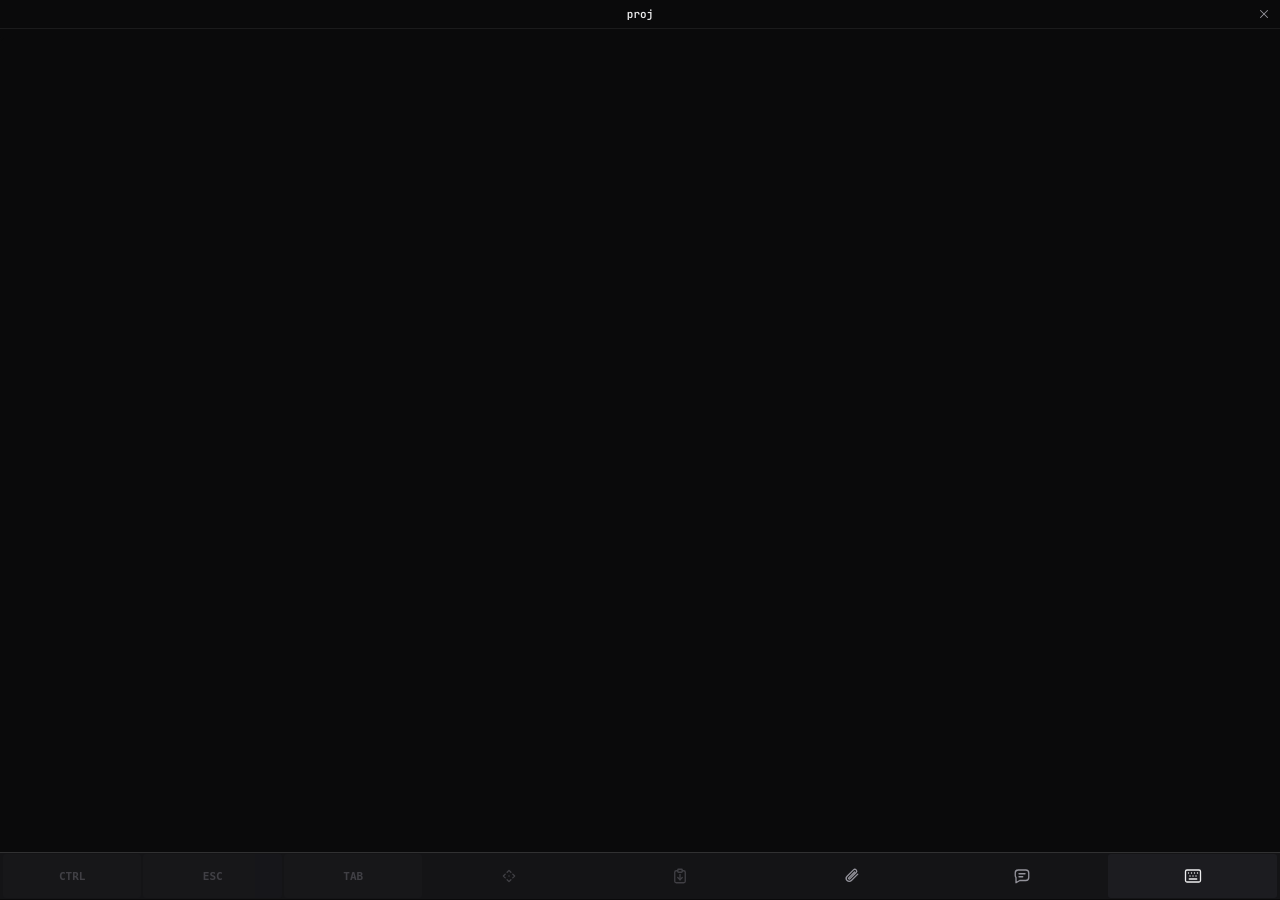
it: a transient file-history failure retries automatically without surfacing an error
Step 1. Click the button named "Files" → (851, 876), box [766,854,935,898]
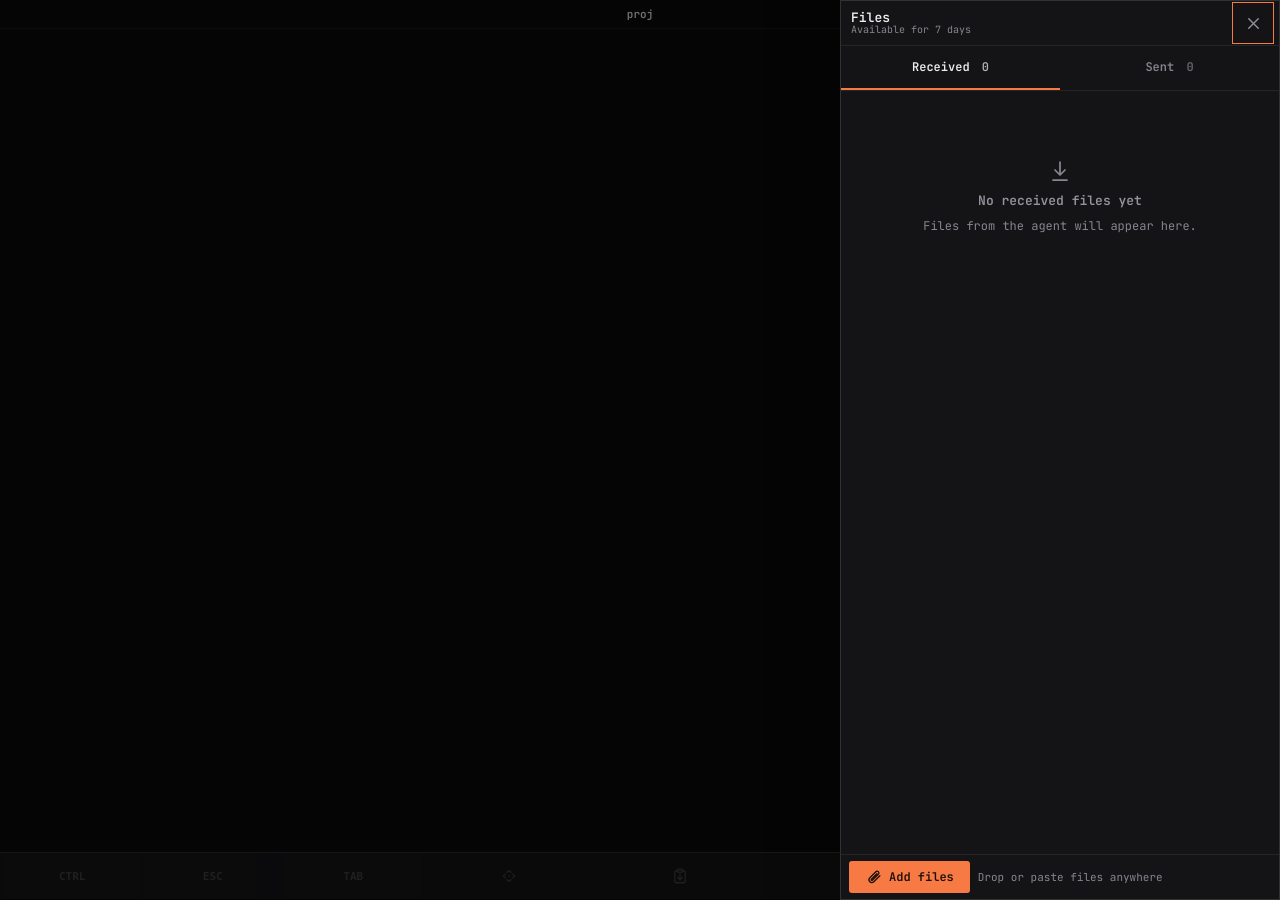
Now the text "No received files yet" is shown, box [978,192,1142,208]
